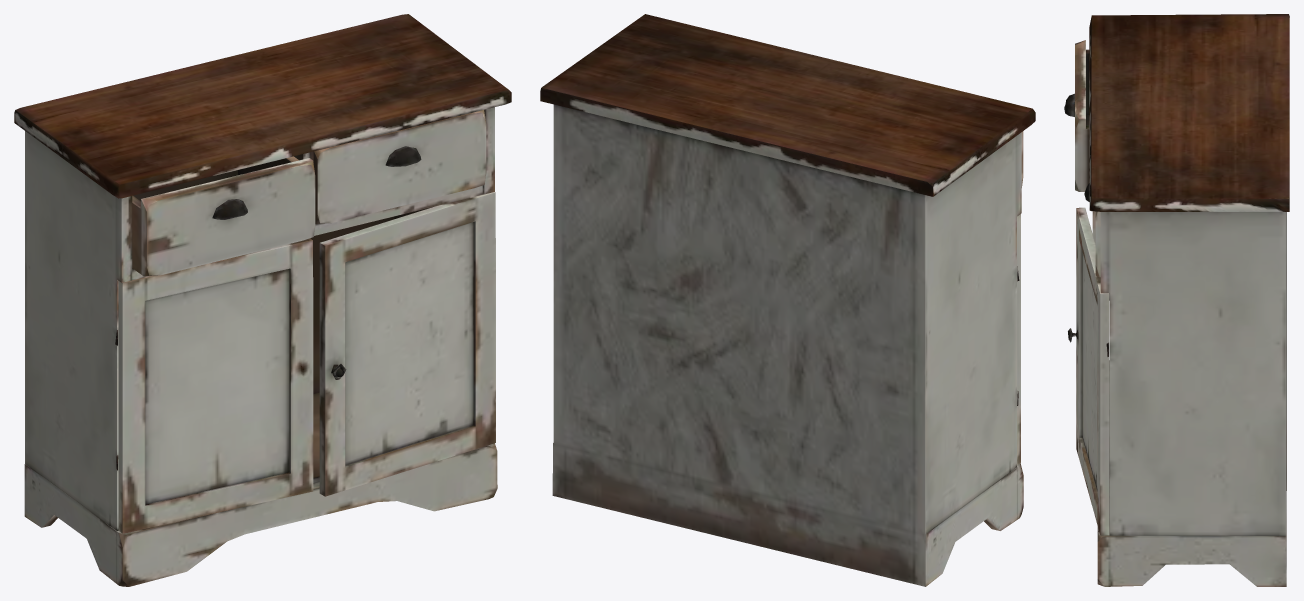
The model's file is painted_wooden_cabinet.glb.
The picture shows the model from 3 angles, left to right: view 1: azimuth 30°, elevation 25°; view 2: azimuth 150°, elevation 25°; view 3: azimuth 270°, elevation 25°; orthographic projection. The views are drawn at different scales.
Parts seen in each view (by area): view 1: painted_wooden_cabinet; view 2: painted_wooden_cabinet; view 3: painted_wooden_cabinet.
Boxes of the visible parts, x1,y1,x2,y2 form: painted_wooden_cabinet: (14,14,511,586); painted_wooden_cabinet: (540,14,1035,586); painted_wooden_cabinet: (1064,14,1289,586).
Size of the model in its own units: 1.19 by 1.18 by 0.6144.
1 material, 1 textured.
